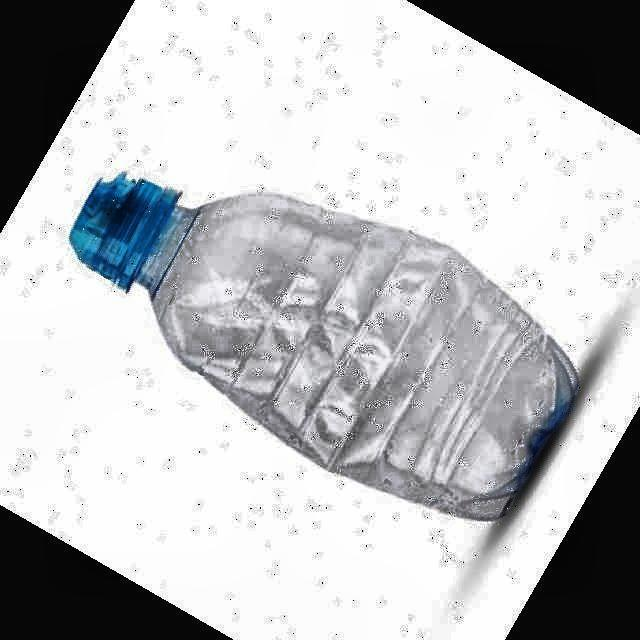plastic: (70, 174, 579, 518)
